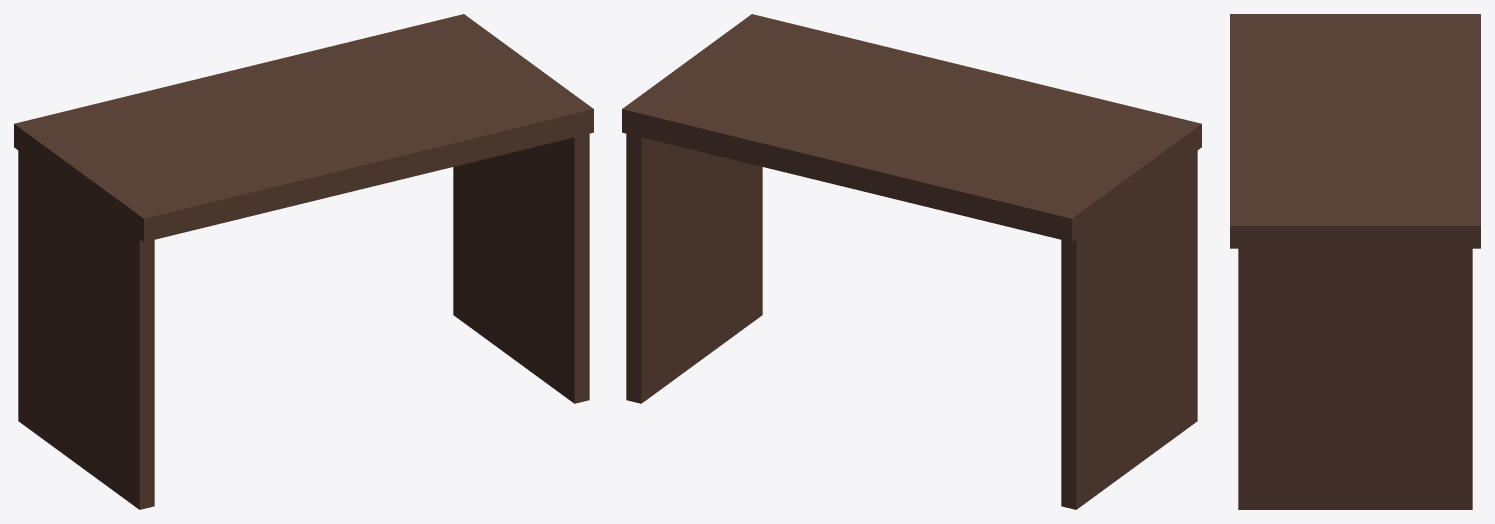
File: fixture-desk.glb
3 renders of one model, left to right at view 1: azimuth 30°, elevation 25°; view 2: azimuth 150°, elevation 25°; view 3: azimuth 270°, elevation 25°, orthographic. The views are drawn at different scales.
Visible parts, largest first — view 1: fixture-desk; view 2: fixture-desk; view 3: fixture-desk.
Part boxes in pixels (x1,y1,x2,y2): fixture-desk: [14, 14, 593, 509]; fixture-desk: [622, 14, 1201, 509]; fixture-desk: [1230, 14, 1480, 509].
Size of the model in its own units: 1.2 by 0.75 by 0.6.
